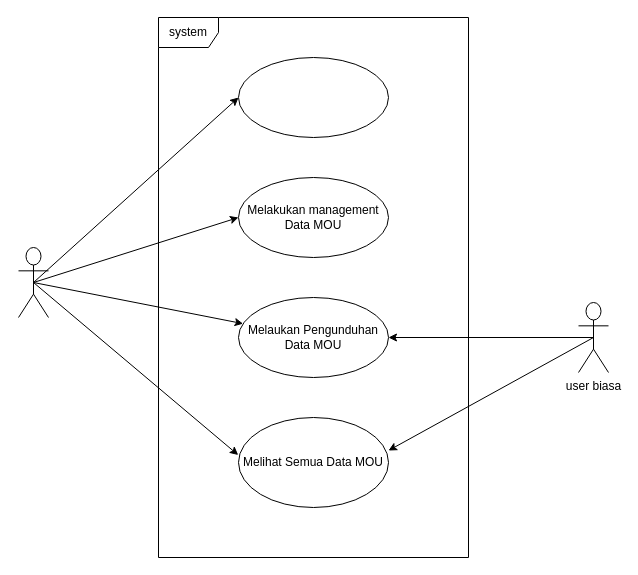
This 638x575 diagram has some shape labels left out. The shapes that lost their labels are listed below. From the top down, each one's box as (x1, y1, x2, y2) in pixels, then its label:
(238, 56, 388, 138): Menambah user pengupload
(18, 246, 48, 318): admin
